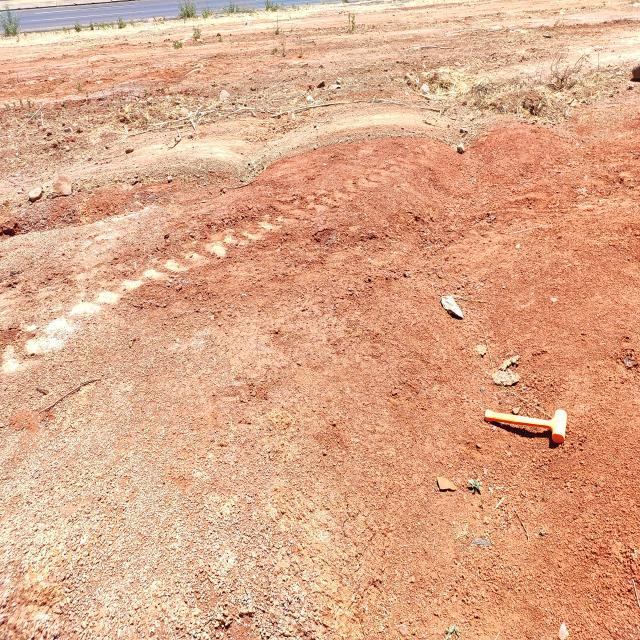Orange_hammer: (483, 408, 567, 444)
